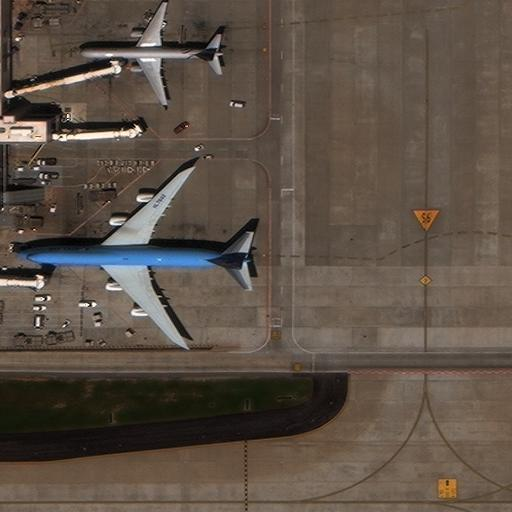Large Civil Transport: (5, 169, 256, 349), (74, 2, 226, 106)
